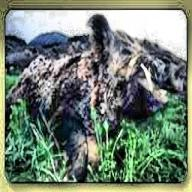boar: (4, 13, 186, 182)
